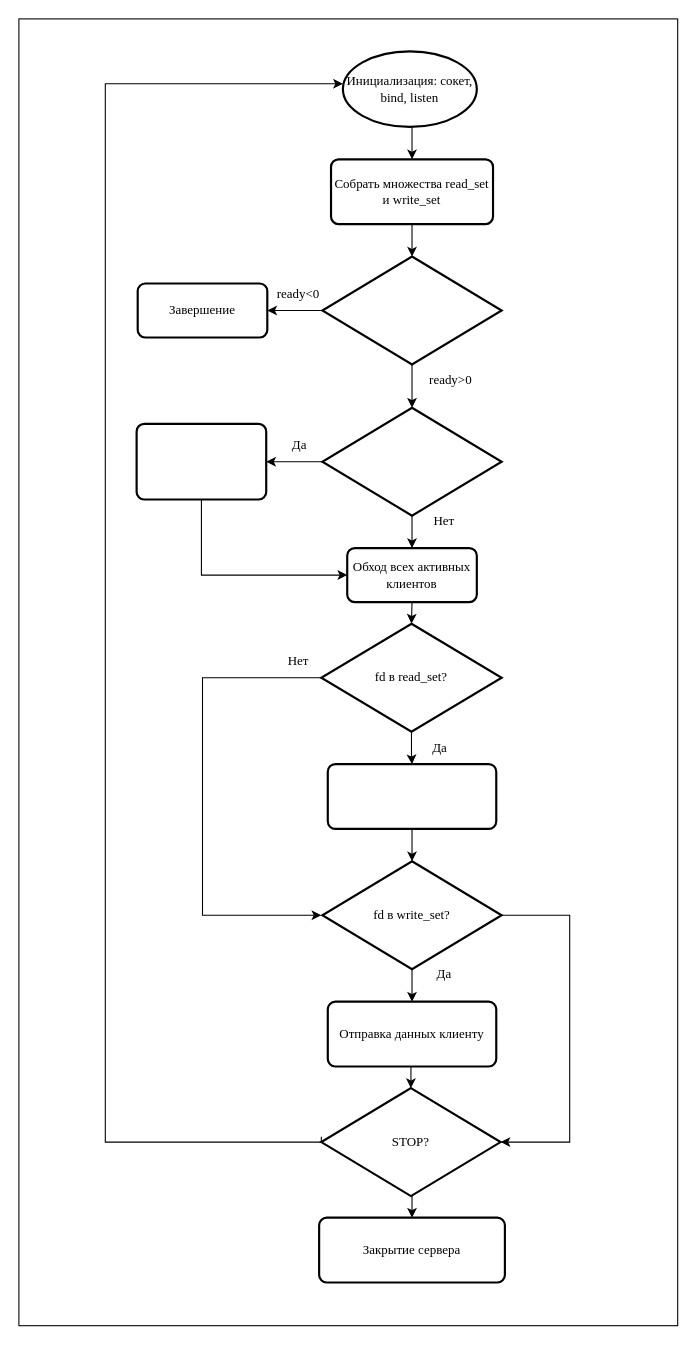
Image size: 697x1345. Some labels were removed from this diagram. The centre of each missing label's shape, as x and y in pixels:
"listen_fd готов к чтению?" belongs at [411,461].
"select(), ожидание готовности сокетов, возврат fd." belongs at [411,310].
"Цикл accept() до EAGAIN, добавление клиентов" belongs at [201,461].
"Чтение данных с сокета клиента сервером" belongs at [411,795].
